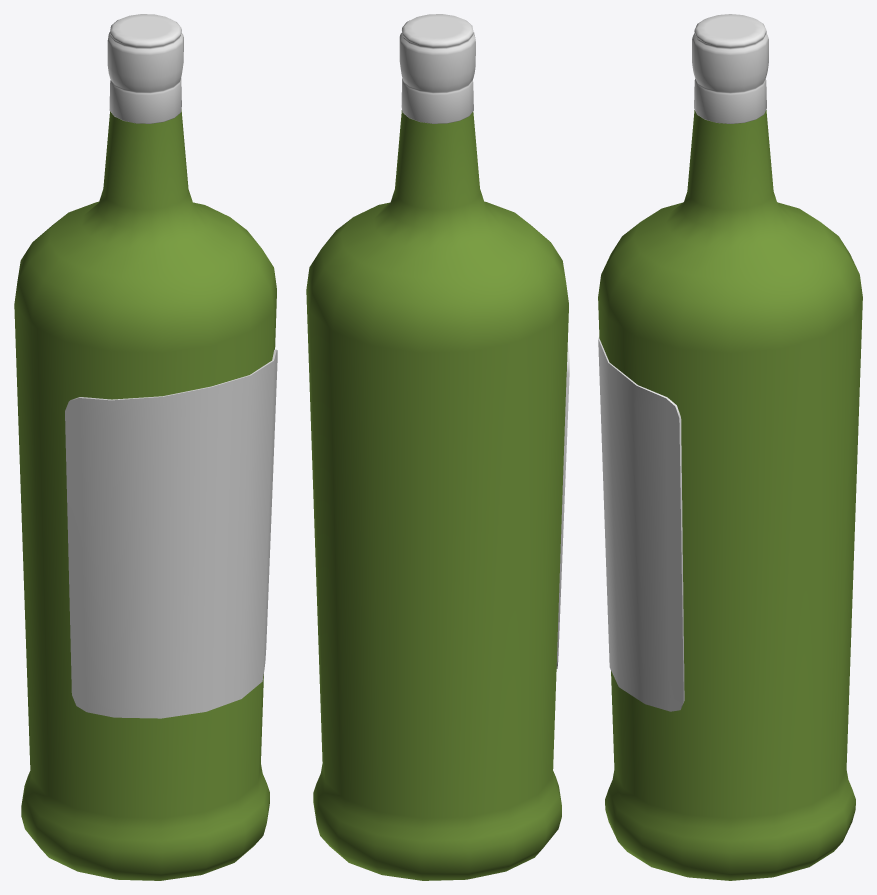
File: MESH_Bottle_G.fbx
3 renders of one model, left to right at view 1: azimuth 30°, elevation 25°; view 2: azimuth 150°, elevation 25°; view 3: azimuth 270°, elevation 25°, orthographic.
Visible parts, largest first — view 1: Bottle_G; view 2: Bottle_G; view 3: Bottle_G.
Boxes of the visible parts, bbox=[...] form: Bottle_G: bbox=[14, 14, 277, 880]; Bottle_G: bbox=[306, 14, 569, 880]; Bottle_G: bbox=[598, 14, 862, 880].
Bounding box in the file's own units: 15.31 × 51.7 × 15.31.
